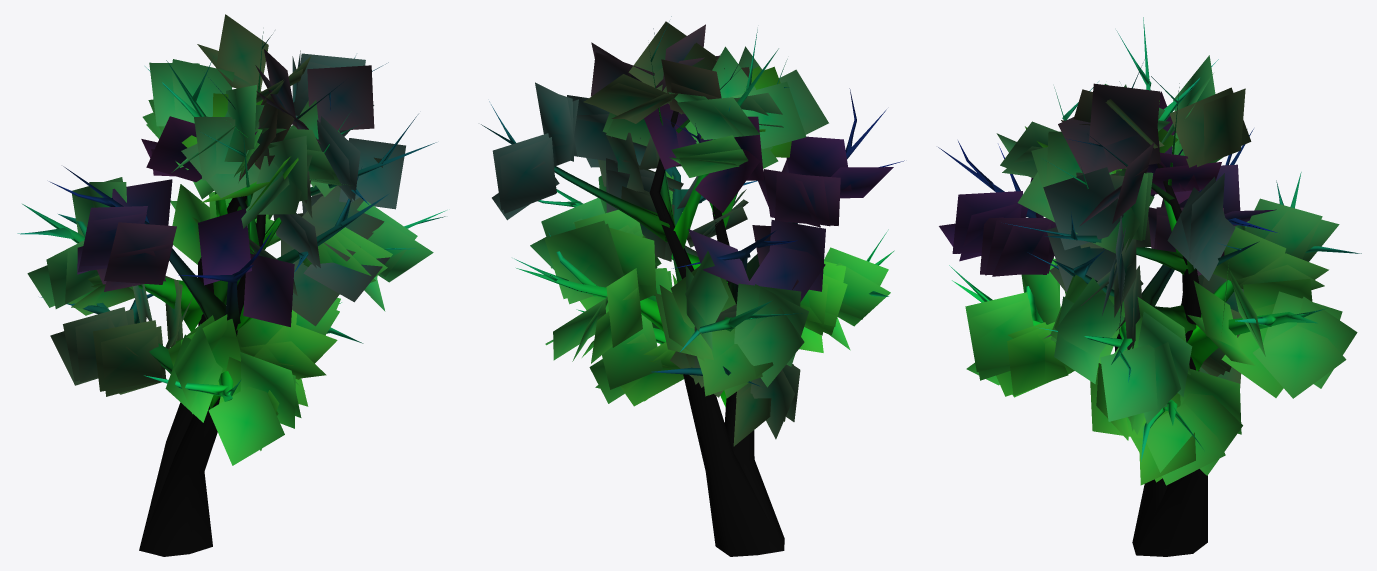
File: Arbol.fbx
3 views of the same model, side by side, from view 1: azimuth 30°, elevation 25°; view 2: azimuth 150°, elevation 25°; view 3: azimuth 270°, elevation 25° (orthographic). The views are drawn at different scales.
Parts seen in each view (by area): view 1: Tree_1, Tree_0; view 2: Tree_1, Tree_0; view 3: Tree_1, Tree_0.
Part boxes in pixels (x1,y1,x2,y2): Tree_1: (27,14,433,465); Tree_0: (17,31,446,556); Tree_1: (492,21,893,446); Tree_0: (481,16,904,556); Tree_1: (939,55,1357,485); Tree_0: (938,17,1361,556).
Bounding box in the file's own units: 586 × 772 × 570.
